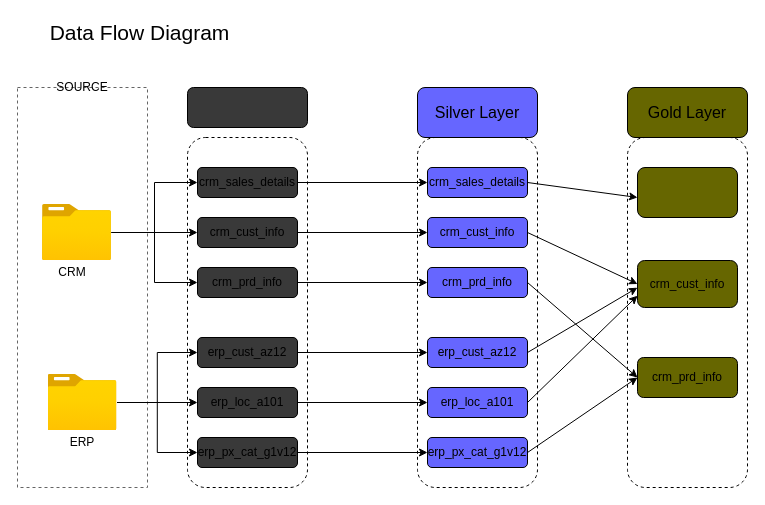
Some shapes in this 765 by 505 pixel diagram are drawn without their labels. Here are the shapes that lost their labels. From the top down, the centre of each, then its label:
At (247,107): "Bronze Layer".
At (687,192): "fact_sales".
